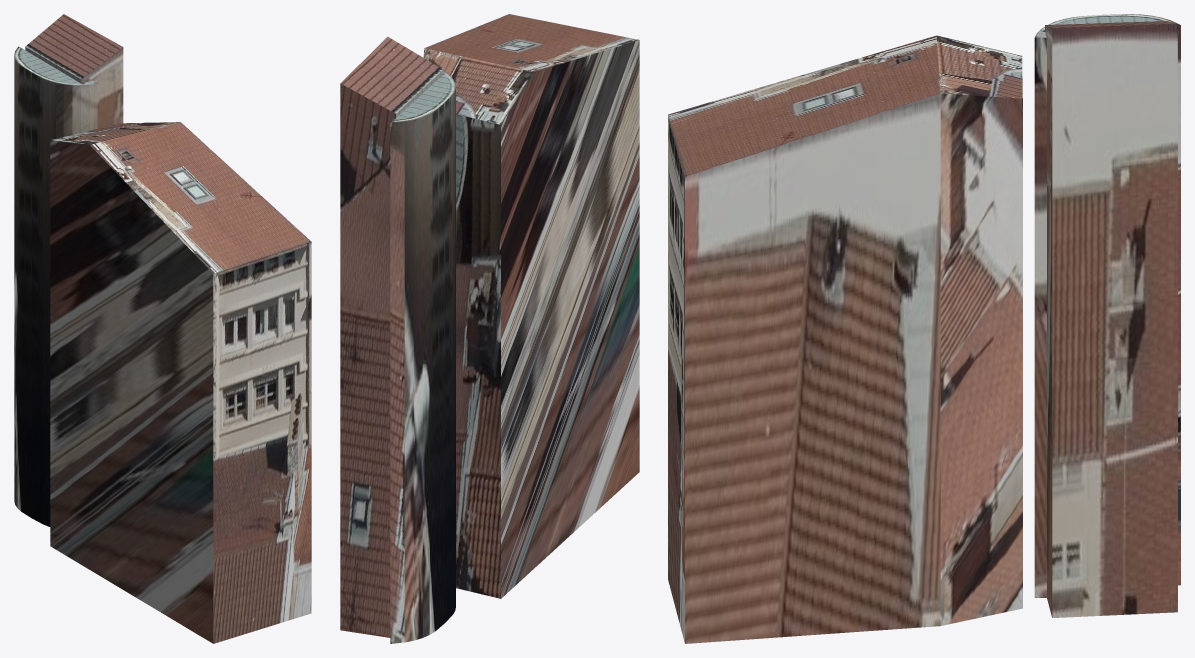
3 views of the same model, side by side, from view 1: azimuth 30°, elevation 25°; view 2: azimuth 150°, elevation 25°; view 3: azimuth 270°, elevation 25° (orthographic). The views are drawn at different scales.
Parts seen in each view (by area): view 1: Z_UP; view 2: Z_UP; view 3: Z_UP.
Part boxes in pixels (left/top/right/bottom): Z_UP: left=14, top=14, right=311, bottom=643; Z_UP: left=340, top=14, right=639, bottom=643; Z_UP: left=668, top=14, right=1180, bottom=643.
Size of the model in its own units: 7.35 by 25.92 by 20.42.
Materials: 2 (1 with a texture image).
